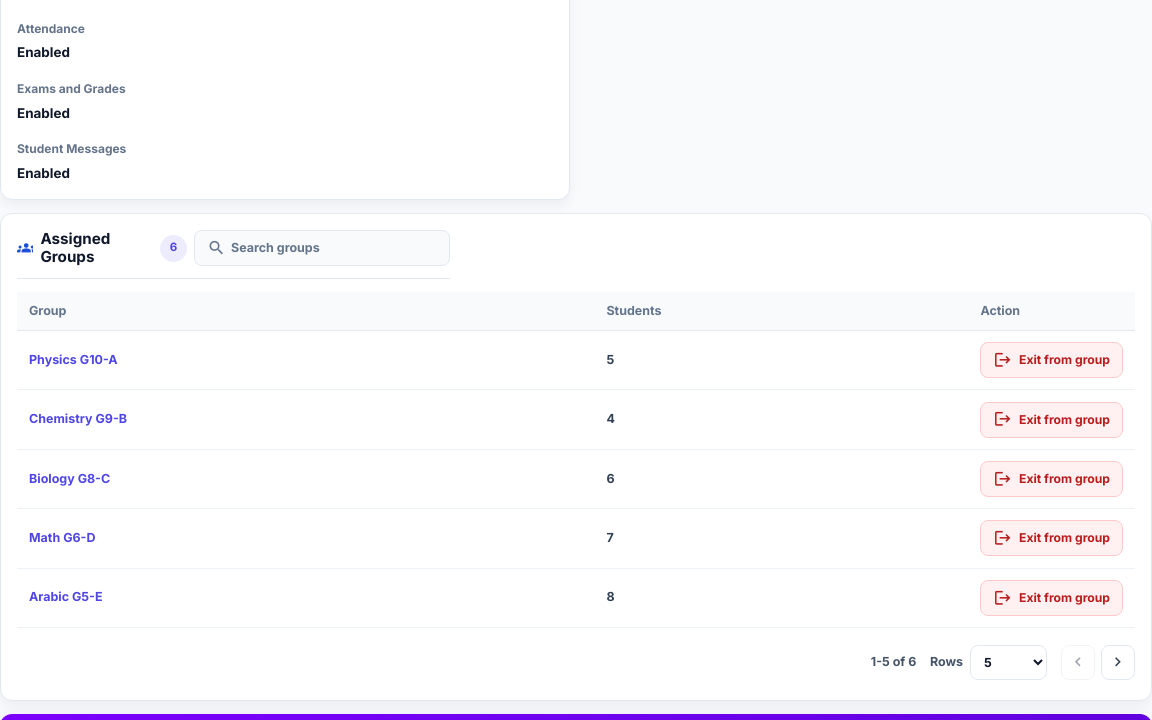
Test: TenantTeacherDetailsComponent › exits a group and removes it from the table
The image size is (1152, 720).
(page scrolled)
Step 1. Click the 1st button with class "teacher-exit-btn" → click(1052, 360), box [980,342,1123,378]
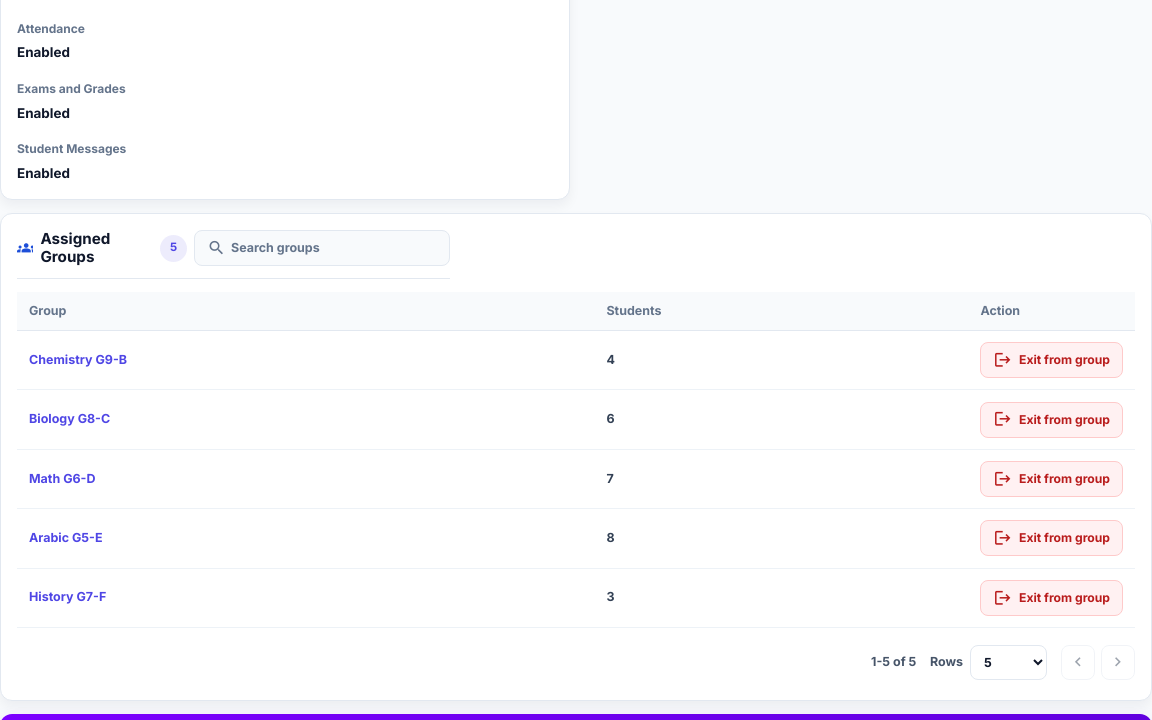
Expected: the text "Chemistry G9-B" is shown, [29,352,127,367]
Now the text "Physics G10-A" is gone
